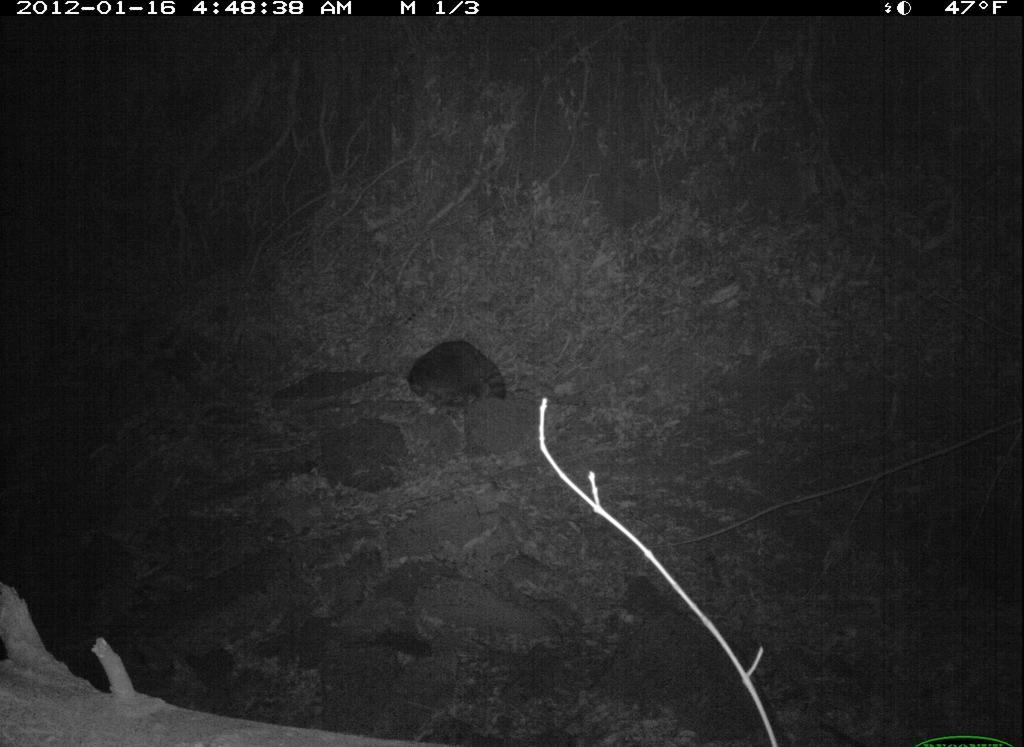raccoon: (404, 336, 514, 416)
